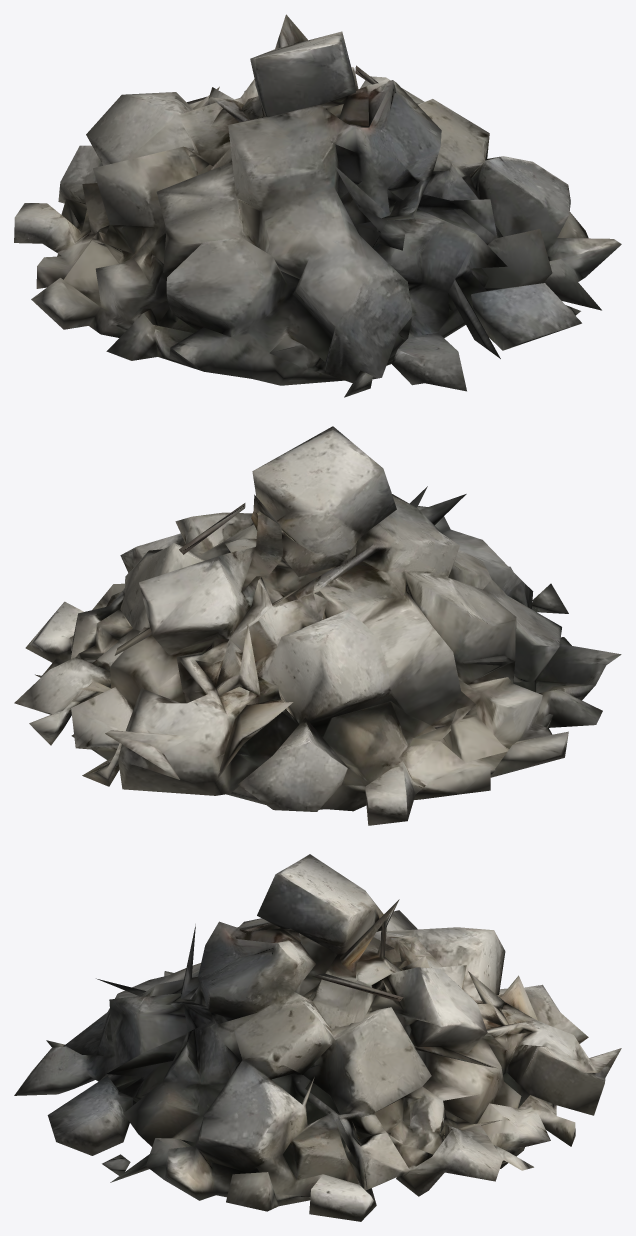
The model's file is e_rubble.glb.
The picture shows the model from 3 angles, top to bottom: view 1: azimuth 30°, elevation 25°; view 2: azimuth 150°, elevation 25°; view 3: azimuth 270°, elevation 25°; orthographic projection. The views are drawn at different scales.
Parts seen in each view (by area): view 1: tripo_node_5b6fa1e7-a5ca-4ab6-bdc5-db07acda0543; view 2: tripo_node_5b6fa1e7-a5ca-4ab6-bdc5-db07acda0543; view 3: tripo_node_5b6fa1e7-a5ca-4ab6-bdc5-db07acda0543.
Part boxes in pixels (x1=…): tripo_node_5b6fa1e7-a5ca-4ab6-bdc5-db07acda0543: x1=14, y1=14, x2=621, y2=397; tripo_node_5b6fa1e7-a5ca-4ab6-bdc5-db07acda0543: x1=14, y1=426, x2=621, y2=825; tripo_node_5b6fa1e7-a5ca-4ab6-bdc5-db07acda0543: x1=14, y1=854, x2=621, y2=1221.
Size of the model in its own units: 0.9308 by 0.4291 by 1.
1 material, 1 textured.
